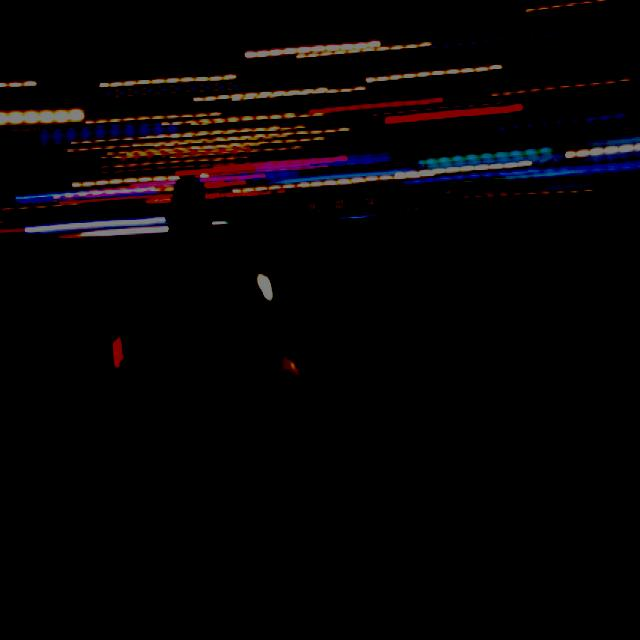Motorbike: (104, 256, 325, 477)
